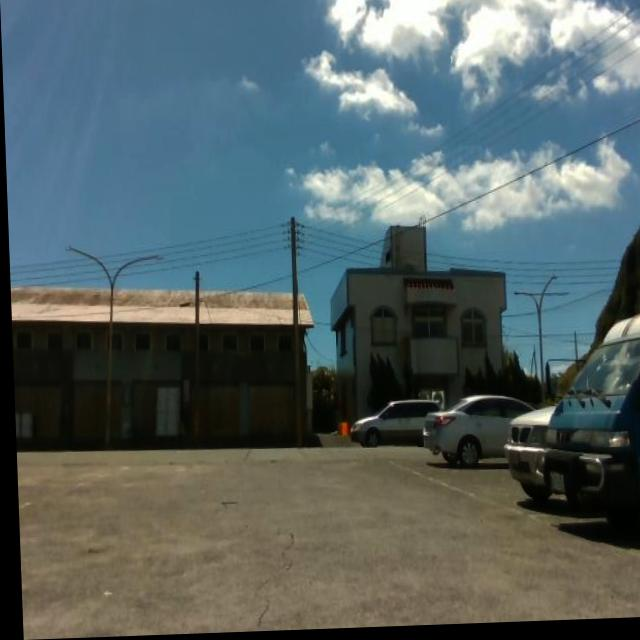pollute: (331, 421, 345, 440)
